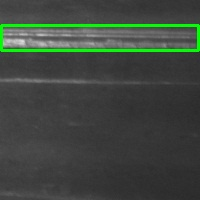scratches: (1, 25, 198, 50), (1, 71, 171, 87)
